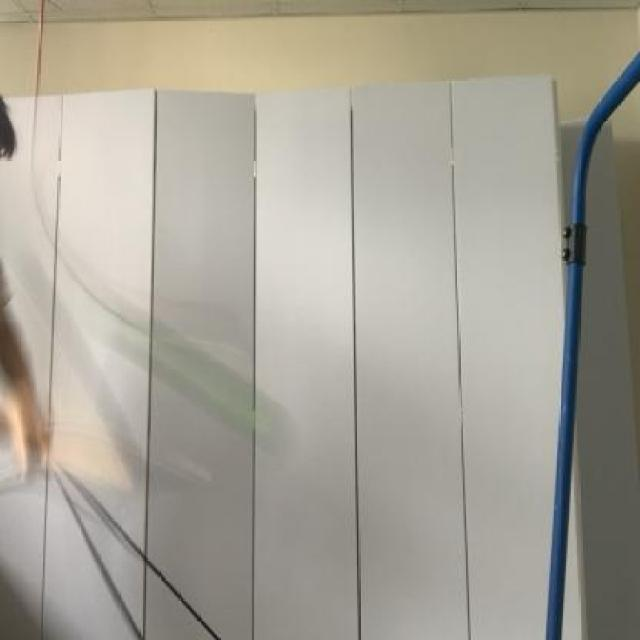baseball: (128, 320, 298, 475)
